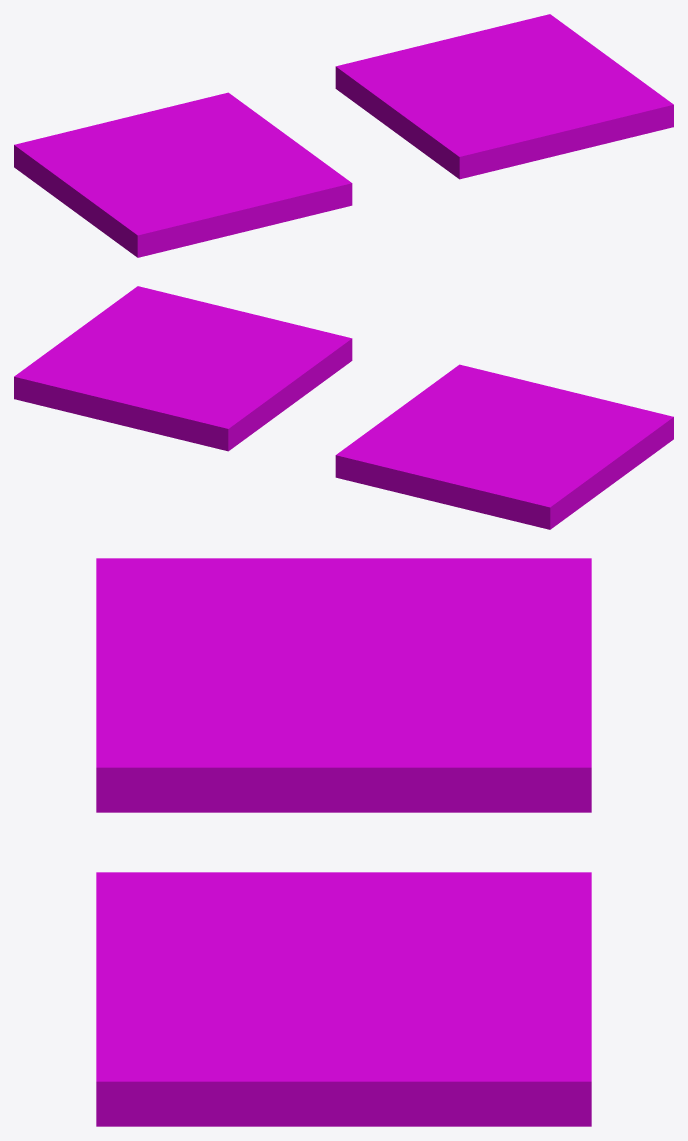
The model's file is tmepsteelyard.fbx.
3 renders of one model, top to bottom at view 1: azimuth 30°, elevation 25°; view 2: azimuth 150°, elevation 25°; view 3: azimuth 270°, elevation 25°, orthographic. The views are drawn at different scales.
Visible parts, largest first — view 1: left, right; view 2: left, right; view 3: left, right.
Part boxes in pixels (<box>): left: <box>14,92,352,257</box>; right: <box>335,14,673,179</box>; left: <box>335,364,673,529</box>; right: <box>14,286,352,451</box>; left: <box>96,558,591,812</box>; right: <box>96,872,591,1126</box>.
Bounding box in the file's own units: 10 × 0.4 × 4.
